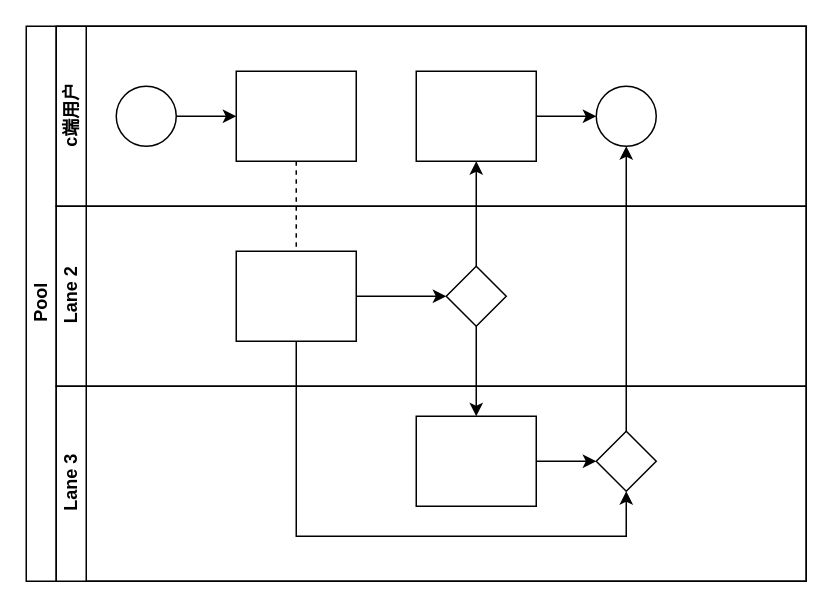
This 833x608 diagram has some shape labels left out. The centre of each missing label's shape, as x and y in pixels:
"开始" belongs at [145,115].
"结束" belongs at [625,115].
